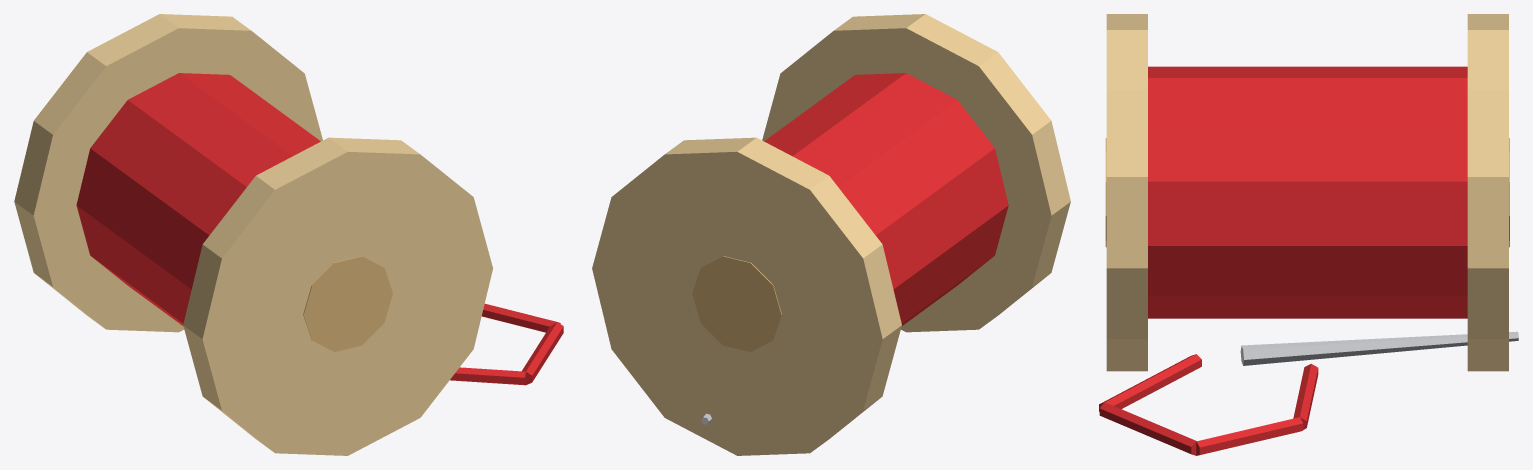
Rendered from hilo.fbx.
3 views of the same model, side by side, from view 1: azimuth 30°, elevation 25°; view 2: azimuth 150°, elevation 25°; view 3: azimuth 270°, elevation 25° (orthographic). The views are drawn at different scales.
Visible parts, largest first — view 1: 05_carrete_hilo_aguja_lowpoly; view 2: 05_carrete_hilo_aguja_lowpoly; view 3: 05_carrete_hilo_aguja_lowpoly.
Part boxes in pixels (x1,y1,x2,y2): 05_carrete_hilo_aguja_lowpoly: (14,14,563,455); 05_carrete_hilo_aguja_lowpoly: (592,14,1070,455); 05_carrete_hilo_aguja_lowpoly: (1099,14,1518,455).
Size of the model in its own units: 216 by 156 by 183.
